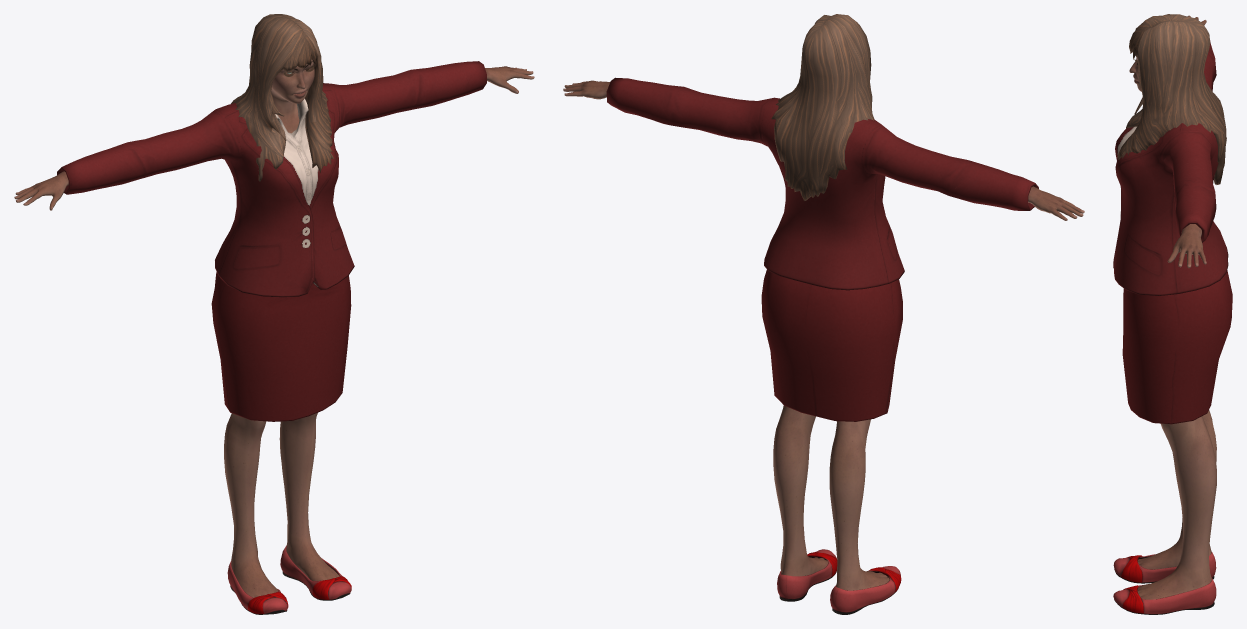
File: modelw9.obj
3 renders of one model, left to right at view 1: azimuth 30°, elevation 25°; view 2: azimuth 150°, elevation 25°; view 3: azimuth 270°, elevation 25°, orthographic.
Visible parts, largest first — view 1: Tops, Bottoms, Body, Hair, Shoes; view 2: Tops, Bottoms, Body, Hair, Shoes; view 3: Tops, Bottoms, Hair, Body, Shoes.
Part boxes in pixels (x1,y1,x2,y2): Tops: [57, 61, 486, 297]; Bottoms: [211, 272, 351, 421]; Body: [14, 59, 534, 597]; Hair: [231, 14, 333, 181]; Shoes: [227, 545, 351, 614]; Tops: [606, 77, 1038, 290]; Bottoms: [761, 269, 902, 421]; Body: [563, 80, 1084, 590]; Hair: [771, 14, 874, 200]; Shoes: [777, 549, 901, 614]; Tops: [1113, 40, 1228, 295]; Bottoms: [1122, 270, 1232, 424]; Hair: [1117, 14, 1226, 184]; Body: [1129, 15, 1216, 599]; Shoes: [1113, 552, 1216, 614].
Bounding box in the file's own units: 172 × 182 × 34.09.
5 materials, 5 textured.
